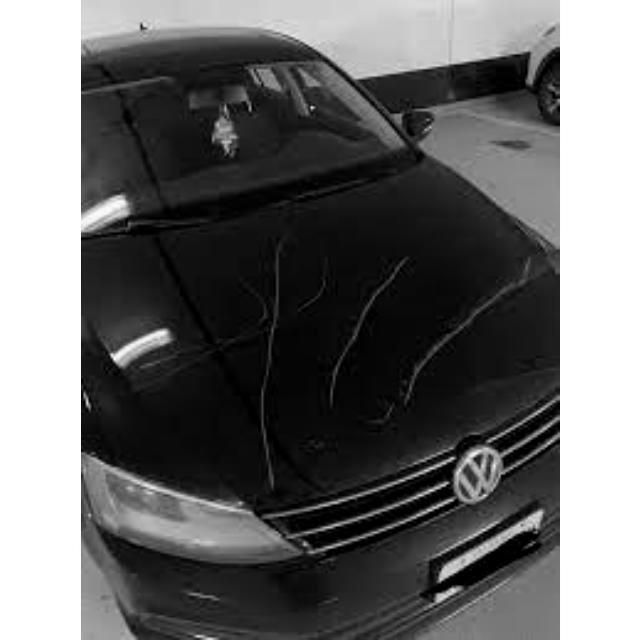bonnet-dent: (80, 194, 556, 507)
